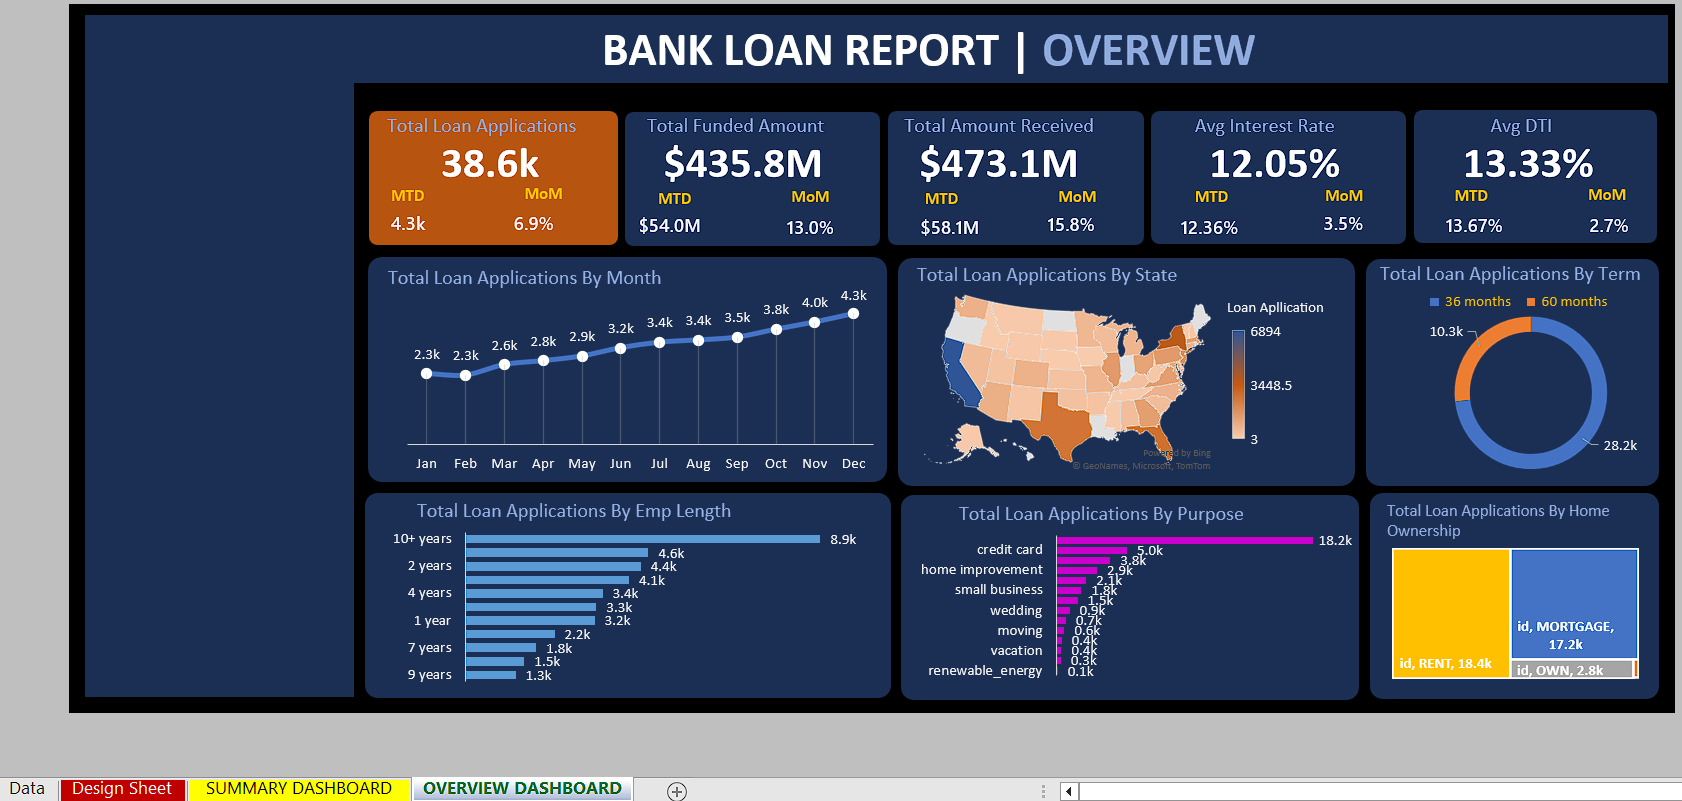

This screenshot's page, from the dashboard's own definition file:
{"tool":"powerbi","page":{"name":"Overview","canvas":[1280,720],"ordinal":1},"visuals":[{"type":"shape","box":[0,0,1279.6,55.5],"z":0},{"type":"shape","box":[200,67.5,194,119.3],"z":1000},{"type":"shape","box":[1.2,55.4,184.3,665.1],"z":2000},{"type":"textbox","box":[307.6,3.3,453.3,52.2],"z":3000},{"type":"card","fields":{"Values":["bank_loan_data.Total Loan Applications"]},"box":[194.3,94.8,194.6,41.3],"z":4000},{"type":"textbox","box":[209.6,67.6,179.3,34.8],"z":5000},{"type":"card","title":"MTD","fields":{"Values":["bank_loan_data.MTD Loan Applications"]},"box":[218.3,136.1,51.1,50],"z":6000},{"type":"card","title":"MoM","fields":{"Values":["bank_loan_data.MoM Loan Application"]},"box":[308.5,136.1,51.1,50],"z":7000},{"type":"shape","box":[408.6,68.5,194.6,117.4],"z":8000},{"type":"card","fields":{"Values":["bank_loan_data.Total Funded Amount"]},"box":[404.3,95.2,194.6,41.3],"z":9000},{"type":"textbox","box":[419.6,68,179.3,34.8],"z":10000},{"type":"card","title":"MTD","fields":{"Values":["bank_loan_data.MTD Funded Amount"]},"box":[428.3,137,72.8,50],"z":11000},{"type":"card","title":"MoM","fields":{"Values":["bank_loan_data.MoM Total Funded Amount"]},"box":[501.7,136.7,67.4,50],"z":12000},{"type":"shape","box":[617.7,68,194.6,117.4],"z":13000},{"type":"card","fields":{"Values":["bank_loan_data.Total Amount Received"]},"box":[616.3,94.6,194.6,41.3],"z":14000},{"type":"textbox","box":[627,67.6,179.3,34.8],"z":15000},{"type":"card","title":"MTD","fields":{"Values":["bank_loan_data.MTD Amount received"]},"box":[635.2,136.3,64.1,50],"z":16000},{"type":"card","title":"MoM","fields":{"Values":["bank_loan_data.MoM Total Amount Received"]},"box":[709.1,136.3,67.4,50],"z":17000},{"type":"shape","box":[826.7,67.2,194.6,117.4],"z":18000},{"type":"card","fields":{"Values":["bank_loan_data.Avg Interest Rate"]},"box":[827.4,93.7,194.6,41.3],"z":19000},{"type":"textbox","box":[838,66.8,179.3,34.8],"z":20000},{"type":"card","title":"MTD","fields":{"Values":["bank_loan_data.MTD Avg Int Rate"]},"box":[846.3,135.5,64.1,50],"z":21000},{"type":"card","title":"MoM","fields":{"Values":["bank_loan_data.MoM Avg Int Rate"]},"box":[919.5,136.1,70.7,49.1],"z":22000},{"type":"shape","box":[1036.1,69.9,203.6,118.1],"z":23000},{"type":"card","fields":{"Values":["bank_loan_data.Avg DTI"]},"box":[1035.2,97,194.6,41.3],"z":24000},{"type":"textbox","box":[1045.8,70,179.3,34.8],"z":25000},{"type":"card","title":"MTD","fields":{"Values":["bank_loan_data.MTD Avg DTI"]},"box":[1054.1,138.7,64.1,50],"z":26000},{"type":"card","title":"MoM","fields":{"Values":["bank_loan_data.MoM Avg DTI"]},"box":[1127.3,139.3,70.7,49.1],"z":27000},{"type":"shape","box":[200,201.2,405,235],"z":28000},{"type":"slicer","fields":{"Values":["bank_loan_data.address_state"]},"box":[14.5,449.4,157.8,39.8],"z":29000},{"type":"textbox","box":[15.7,416.9,53,32.5],"z":30000},{"type":"slicer","fields":{"Values":["bank_loan_data.grade"]},"box":[15.7,520.5,157.8,39.8],"z":31000},{"type":"textbox","box":[15.7,488,67.5,32.5],"z":32000},{"type":"slicer","fields":{"Values":["bank_loan_data.Good vs Bad Loans"]},"box":[14.5,592.8,157.8,39.8],"z":33000},{"type":"textbox","box":[15.7,560.2,155.4,32.5],"z":34000},{"type":"areaChart","fields":{"Y":["bank_loan_data.Total Funded Amount"],"Category":["Date Table.Month"]},"box":[202.4,202.4,402.4,231.3],"z":35000},{"type":"slicer","fields":{"Values":["Select Measure.Select Measure"]},"box":[14.5,375.9,156.6,41],"z":36000},{"type":"textbox","box":[15.7,343.4,107.2,32.5],"z":37000},{"type":"shape","box":[616.9,202.4,360,234.9],"z":38000},{"type":"shapeMap","fields":{"Value":["bank_loan_data.Total Funded Amount"],"Category":["bank_loan_data.address_state"]},"box":[616.9,202.4,362.7,231.3],"z":39000},{"type":"shape","box":[990.4,202.4,253,234.9],"z":40000},{"type":"donutChart","fields":{"Y":["bank_loan_data.Total Funded Amount"],"Category":["bank_loan_data.term"]},"box":[990.4,204.8,253,232.5],"z":41000},{"type":"shape","box":[202.4,449.4,402.4,234.9],"z":42000},{"type":"barChart","fields":{"Y":["bank_loan_data.Total Funded Amount"],"Category":["bank_loan_data.emp_length"]},"box":[202.4,450.6,400,234.9],"z":43000},{"type":"shape","box":[618.1,450.6,361.4,234.9],"z":44000},{"type":"barChart","fields":{"Y":["bank_loan_data.Total Funded Amount"],"Category":["bank_loan_data.purpose"]},"box":[618.1,450.6,359,234.9],"z":45000},{"type":"shape","box":[990.4,450.6,253,233.7],"z":45001},{"type":"treemap","fields":{"Group":["bank_loan_data.home_ownership"],"Values":["bank_loan_data.Total Funded Amount"]},"box":[990.4,450.6,249.4,233.7],"z":45002},{"type":"image","box":[40.2,56.4,106,108.4],"z":45003},{"type":"pageNavigator","box":[15.7,184.3,157.8,151.8],"z":45004}]}

Visuals, with their boxes on the page's 1280x720 design canvas (x1, y1, x2, y2). These are canvas units, not pixel positions in the 1682x801 screenshot, which may show the page scaled, cropped or inside an application window:
shape: 0,0,1280,56
shape: 200,68,394,187
shape: 1,55,186,720
textbox: 308,3,761,56
card - bank_loan_data.Total Loan Applications: 194,95,389,136
textbox: 210,68,389,102
"MTD" card: 218,136,269,186
"MoM" card: 308,136,360,186
shape: 409,68,603,186
card - bank_loan_data.Total Funded Amount: 404,95,599,136
textbox: 420,68,599,103
"MTD" card: 428,137,501,187
"MoM" card: 502,137,569,187
shape: 618,68,812,185
card - bank_loan_data.Total Amount Received: 616,95,811,136
textbox: 627,68,806,102
"MTD" card: 635,136,699,186
"MoM" card: 709,136,776,186
shape: 827,67,1021,185
card - bank_loan_data.Avg Interest Rate: 827,94,1022,135
textbox: 838,67,1017,102
"MTD" card: 846,136,910,186
"MoM" card: 920,136,990,185
shape: 1036,70,1240,188
card - bank_loan_data.Avg DTI: 1035,97,1230,138
textbox: 1046,70,1225,105
"MTD" card: 1054,139,1118,189
"MoM" card: 1127,139,1198,188
shape: 200,201,605,436
slicer - bank_loan_data.address_state: 14,449,172,489
textbox: 16,417,69,449
slicer - bank_loan_data.grade: 16,520,174,560
textbox: 16,488,83,520
slicer - bank_loan_data.Good vs Bad Loans: 14,593,172,633
textbox: 16,560,171,593
areaChart - bank_loan_data.Total Funded Amount x Date Table.Month: 202,202,605,434
slicer - Select Measure.Select Measure: 14,376,171,417
textbox: 16,343,123,376
shape: 617,202,977,437
shapeMap - bank_loan_data.Total Funded Amount x bank_loan_data.address_state: 617,202,980,434
shape: 990,202,1243,437
donutChart - bank_loan_data.Total Funded Amount x bank_loan_data.term: 990,205,1243,437
shape: 202,449,605,684
barChart - bank_loan_data.Total Funded Amount x bank_loan_data.emp_length: 202,451,602,686
shape: 618,451,980,686
barChart - bank_loan_data.Total Funded Amount x bank_loan_data.purpose: 618,451,977,686
shape: 990,451,1243,684
treemap - bank_loan_data.home_ownership x bank_loan_data.Total Funded Amount: 990,451,1240,684
image: 40,56,146,165
pageNavigator: 16,184,174,336
